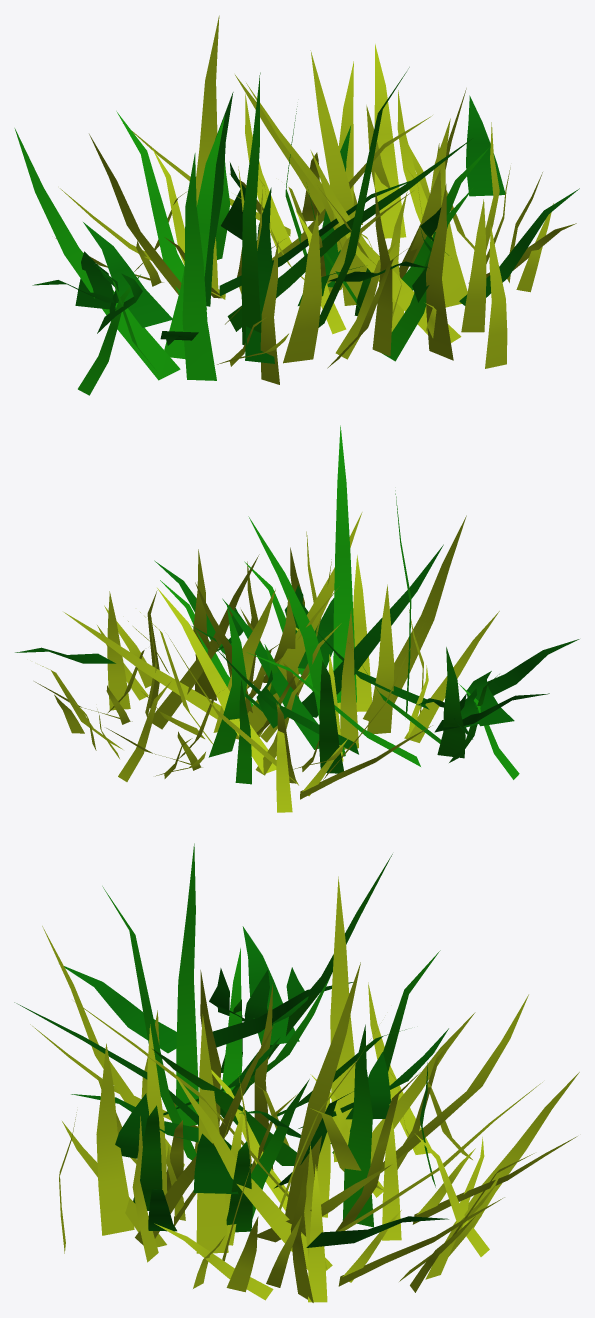
File: grass3.glb
3 renders of one model, top to bottom at view 1: azimuth 30°, elevation 25°; view 2: azimuth 150°, elevation 25°; view 3: azimuth 270°, elevation 25°, orthographic. The views are drawn at different scales.
Parts seen in each view (by area): view 1: Object_2.133, Object_2.021, Object_2.101, Object_3.443, Object_3.288, Object_3.435, Object_3.440, Object_2.068, Object_3.239, Object_4.012, Object_4.009, Object_2.025 (+38 smaller); view 2: Object_2.100, Object_3.443, Object_3.293, Object_2.025, Object_2.026, Object_4.016, Object_3.290, Object_3.240, Object_2.024, Object_2.021, Object_3.433, Object_3.289 (+27 smaller); view 3: Object_3.440, Object_2.101, Object_3.437, Object_3.297, Object_2.026, Object_3.284, Object_3.433, Object_2.100, Object_4.006, Object_3.239, Object_4.013, Object_4.008 (+47 smaller).
Boxes of the visible parts, x1,y1,x2,y2 form: Object_2.133: [182, 153, 216, 380]; Object_2.021: [14, 128, 180, 380]; Object_2.101: [241, 72, 261, 344]; Object_3.443: [283, 212, 321, 363]; Object_3.288: [310, 50, 366, 305]; Object_3.435: [374, 44, 406, 238]; Object_3.440: [426, 184, 453, 360]; Object_2.068: [164, 116, 224, 358]; Object_3.239: [196, 15, 219, 288]; Object_4.012: [83, 222, 172, 327]; Object_4.009: [466, 95, 505, 196]; Object_2.025: [227, 138, 472, 331]; Object_2.100: [333, 425, 356, 702]; Object_3.443: [363, 515, 466, 720]; Object_3.293: [367, 584, 394, 733]; Object_2.025: [248, 516, 345, 756]; Object_2.026: [208, 606, 246, 757]; Object_4.016: [302, 544, 443, 717]; Object_3.290: [236, 512, 362, 739]; Object_3.240: [157, 588, 276, 773]; Object_2.024: [319, 660, 343, 773]; Object_2.021: [437, 647, 465, 758]; Object_3.433: [152, 554, 259, 729]; Object_3.289: [64, 612, 221, 719]; Object_3.440: [96, 1043, 134, 1235]; Object_2.101: [176, 843, 198, 1126]; Object_3.437: [285, 962, 360, 1236]; Object_3.297: [330, 876, 355, 1162]; Object_2.026: [342, 1024, 373, 1227]; Object_3.284: [196, 1014, 228, 1253]; Object_3.433: [172, 1071, 332, 1270]; Object_2.100: [102, 886, 196, 1160]; Object_4.006: [64, 966, 176, 1053]; Object_3.239: [381, 994, 528, 1169]; Object_4.013: [193, 1133, 238, 1194]; Object_4.008: [242, 926, 299, 1045].
Bounding box in the file's own units: 21.58 × 12.1 × 18.42.
